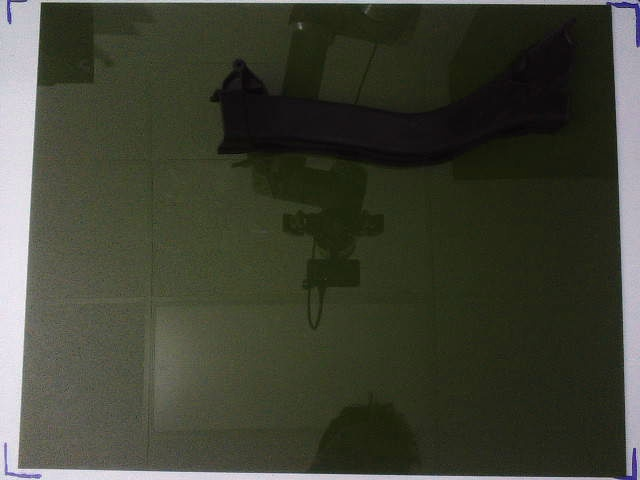887_A-Top: (212, 22, 574, 164)
